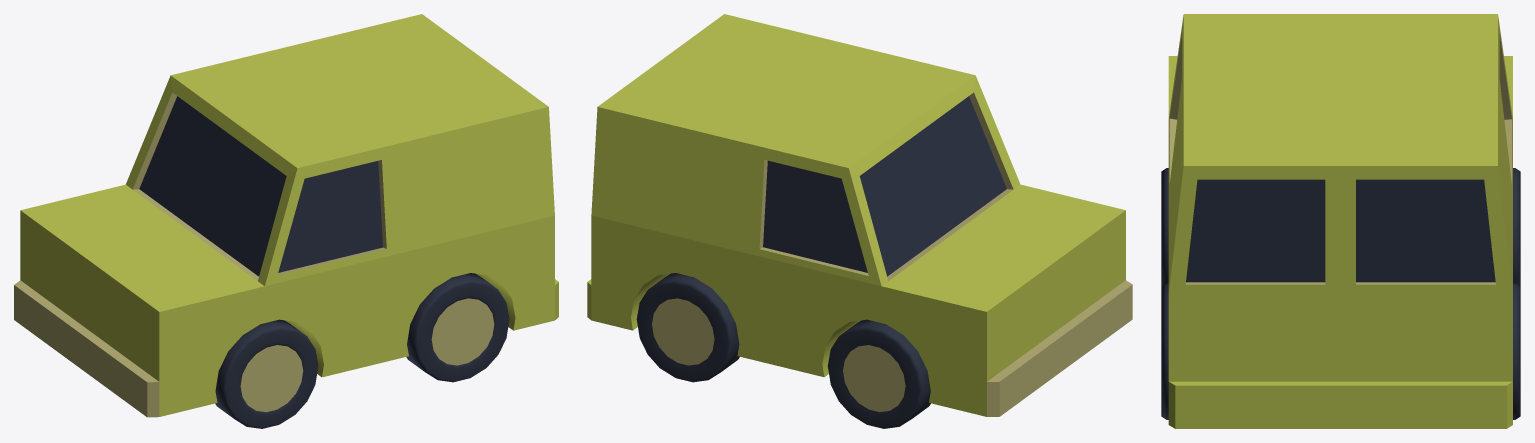
File: car_4.FBX
The picture shows the model from 3 angles, left to right: view 1: azimuth 30°, elevation 25°; view 2: azimuth 150°, elevation 25°; view 3: azimuth 270°, elevation 25°; orthographic projection. The views are drawn at different scales.
Visible parts, largest first — view 1: chassis, wheel_2, wheel_3; view 2: chassis, wheel_4, wheel_1; view 3: chassis, wheel_1, wheel_3, wheel_4, wheel_2.
Boxes of the visible parts, box(x1,y1,x2,y2) form: chassis: box(14, 14, 558, 417); wheel_2: box(215, 319, 318, 428); wheel_3: box(406, 273, 509, 382); chassis: box(587, 14, 1132, 416); wheel_4: box(827, 319, 930, 428); wheel_1: box(636, 273, 739, 382); chassis: box(1168, 14, 1512, 428); wheel_1: box(1513, 283, 1520, 419); wheel_3: box(1161, 283, 1168, 419); wheel_4: box(1513, 168, 1520, 286); wheel_2: box(1161, 168, 1168, 286).
Bounding box in the file's own units: 1220 × 695 × 744.
